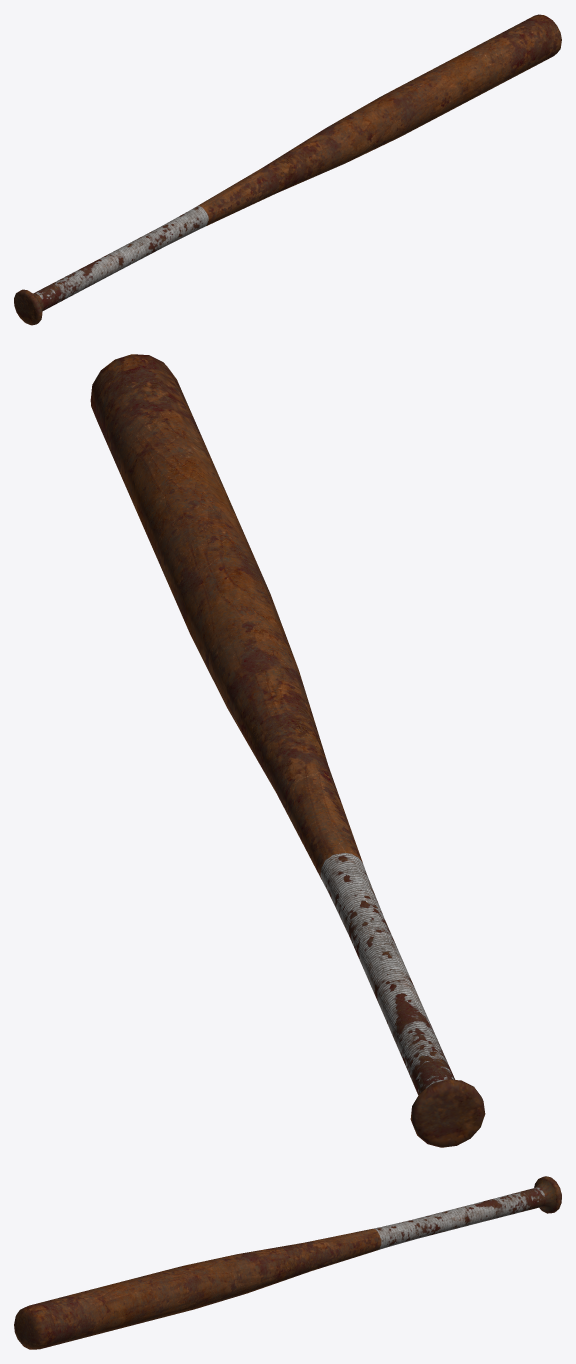
The model's file is Anim_idle_bate_objetos.0035.obj.
The picture shows the model from 3 angles, top to bottom: view 1: azimuth 90°, elevation 25°; view 2: azimuth 150°, elevation 25°; view 3: azimuth 270°, elevation 25°; orthographic projection. The views are drawn at different scales.
Visible parts, largest first — view 1: Bate1; view 2: Bate1; view 3: Bate1.
Boxes of the visible parts, x1=… form: Bate1: x1=14, y1=14, x2=561, y2=325; Bate1: x1=90, y1=354, x2=485, y2=1147; Bate1: x1=14, y1=1176, x2=561, y2=1349.
Size of the model in its own units: 3.8 by 0.8698 by 4.06.
